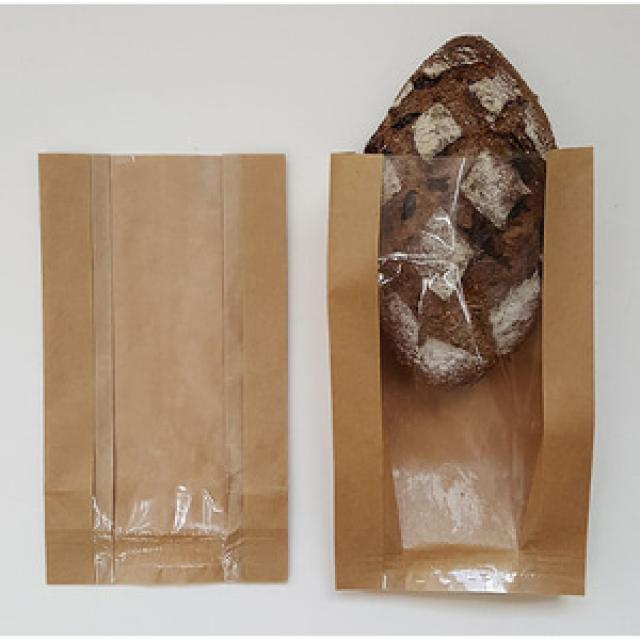paper bag: (32, 146, 296, 596)
